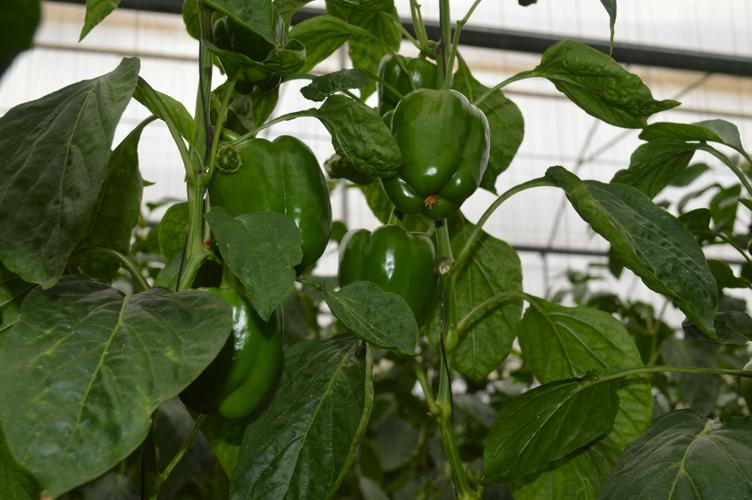BellPepper: (366, 81, 496, 226), (205, 134, 332, 282), (172, 276, 289, 421), (336, 221, 450, 333)
